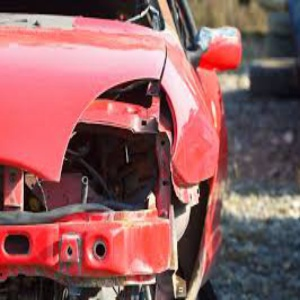bumper: (25, 198, 194, 300)
